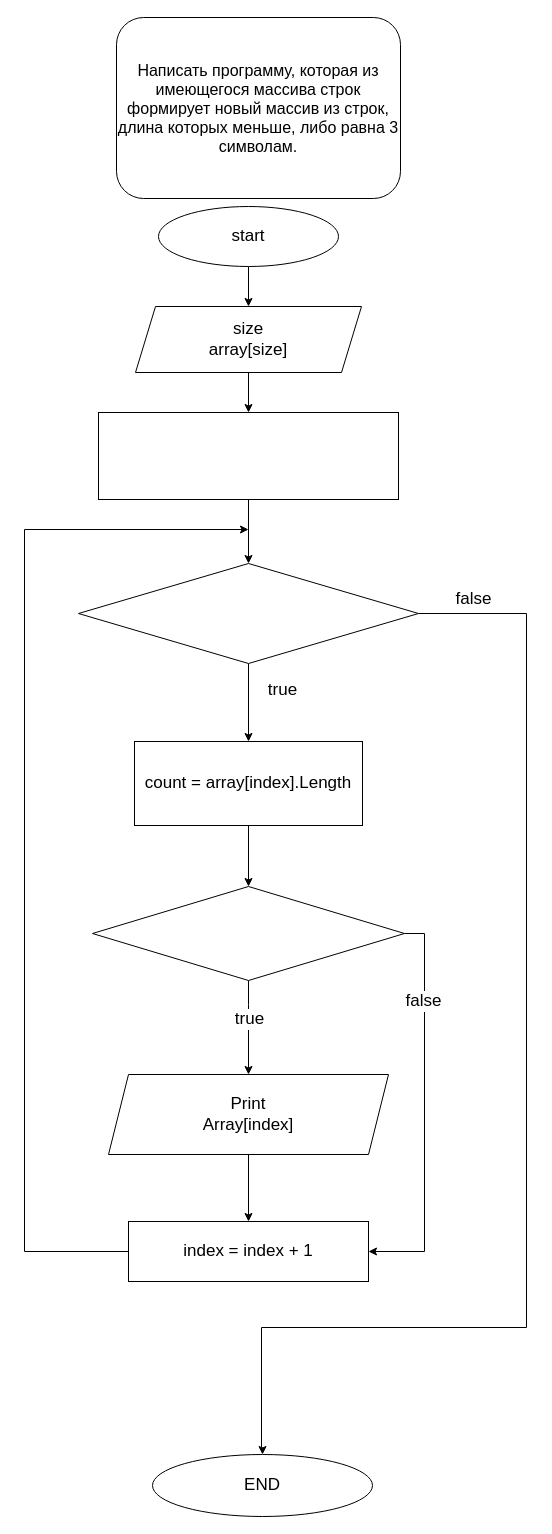
Some shapes in this 552 by 1534 pixel diagram are drawn without their labels. The centre of each missing label's shape, as x and y in pixels:
"count < 4" belongs at [248,933].
"index < size" belongs at [248,613].
"index = 0 count = 0" belongs at [248,456].
